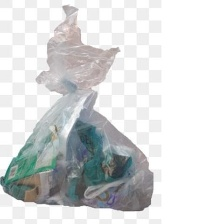plastic_bag: (0, 2, 160, 216)
